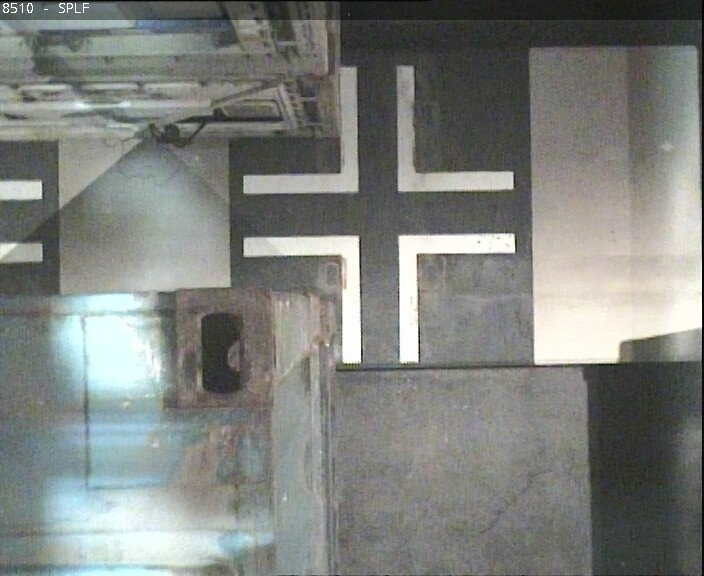groundmarker_1: (243, 67, 514, 194), (243, 234, 513, 361)
